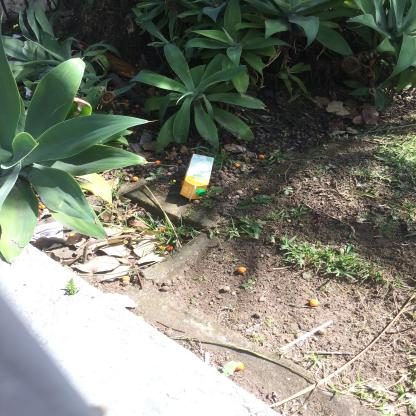karton: (178, 153, 214, 202)
